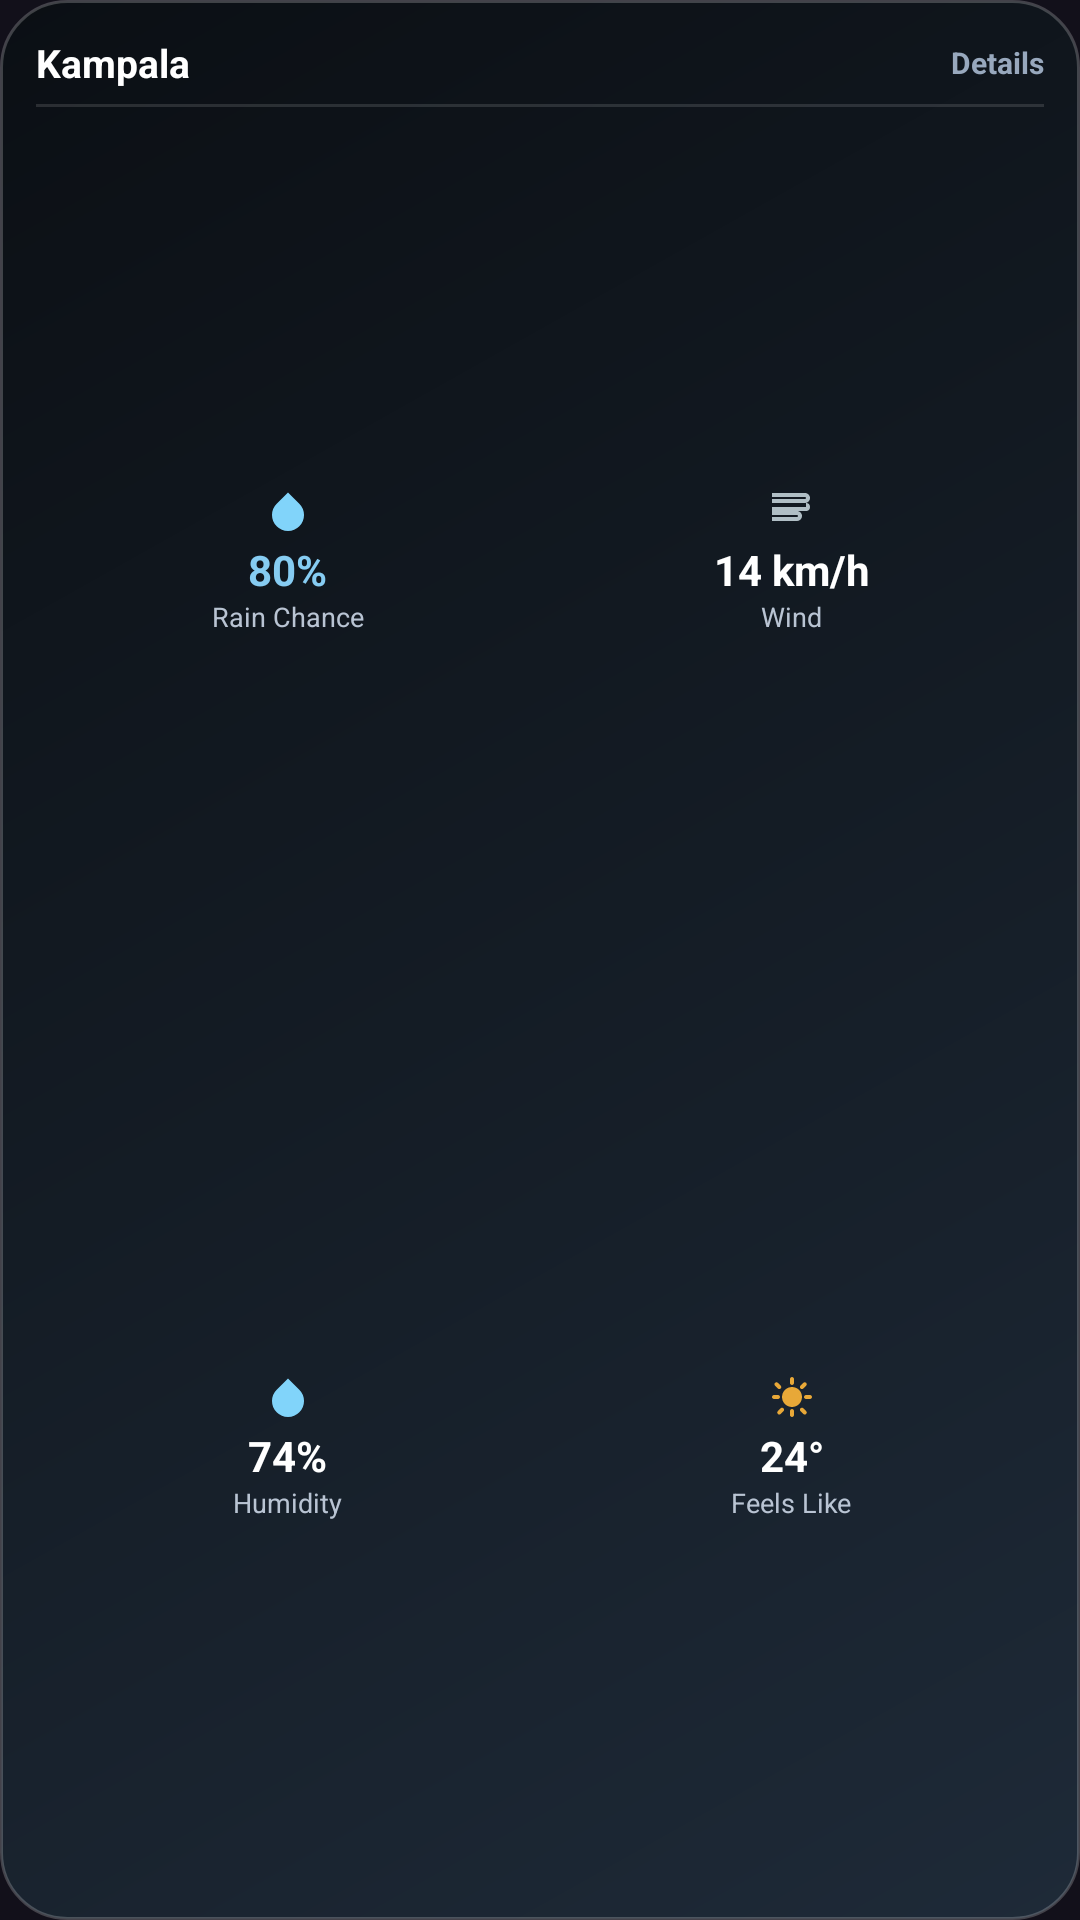

Named icons in this screenshot (1080 x 1920) and their bounding boxes, (left=x1, top=y1, right=x2, bottom=y2):
weather drop: (left=272, top=492, right=304, bottom=531), (left=272, top=1378, right=304, bottom=1417)
weather sun: (left=772, top=1377, right=812, bottom=1417)
